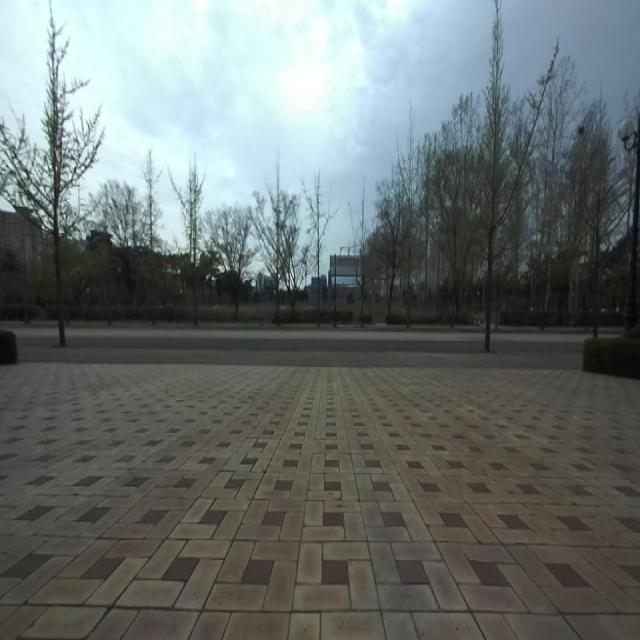sidewalk: (0, 364, 640, 639), (18, 343, 582, 369)
